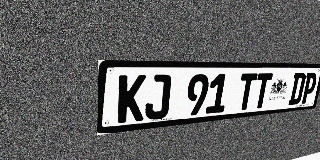1: (206, 74, 229, 114)
9: (185, 74, 210, 116)
D: (288, 73, 307, 105)
J: (144, 74, 172, 120)
K: (117, 75, 146, 123)
P: (300, 73, 318, 104)
T: (236, 73, 258, 111), (252, 73, 273, 109)
